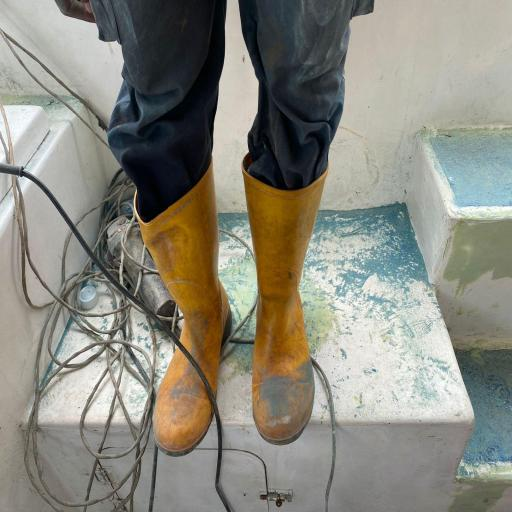safety_shoe: (134, 162, 237, 457), (247, 148, 333, 446)
